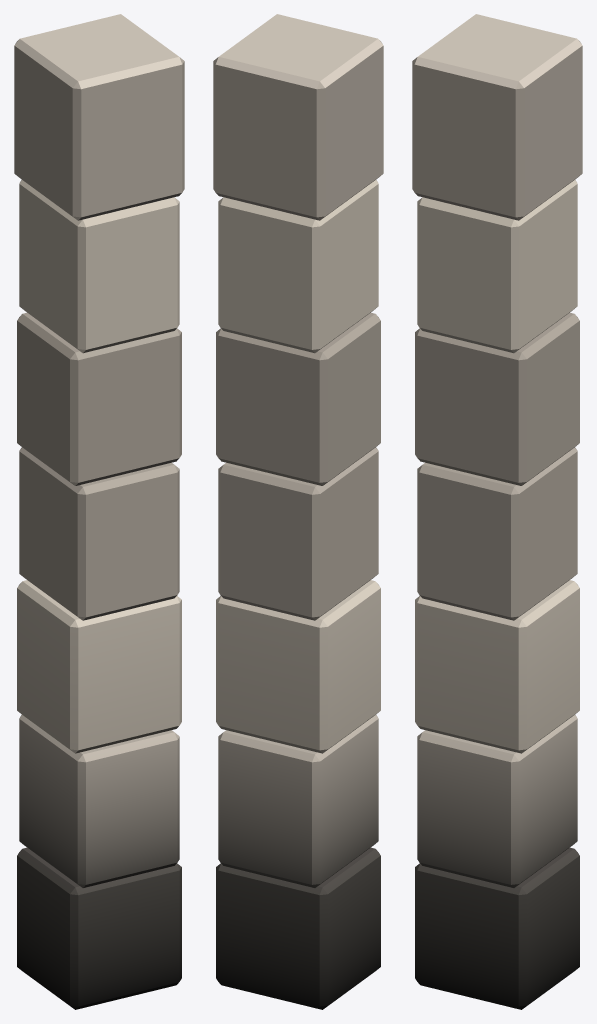
Rendered from SM_VKI_Post_Bars_Corner_Full.fbx.
The picture shows the model from 3 angles, left to right: view 1: azimuth 30°, elevation 25°; view 2: azimuth 150°, elevation 25°; view 3: azimuth 330°, elevation 25°; orthographic projection.
Parts seen in each view (by area): view 1: SM_VKI_Post_Bars_Corner_Full.001; view 2: SM_VKI_Post_Bars_Corner_Full.001; view 3: SM_VKI_Post_Bars_Corner_Full.001.
Boxes of the visible parts, x1,y1,x2,y2 form: SM_VKI_Post_Bars_Corner_Full.001: [14, 14, 184, 1009]; SM_VKI_Post_Bars_Corner_Full.001: [213, 14, 383, 1009]; SM_VKI_Post_Bars_Corner_Full.001: [412, 14, 582, 1009].
Bounding box in the file's own units: 0.42 × 3.34 × 0.42.
